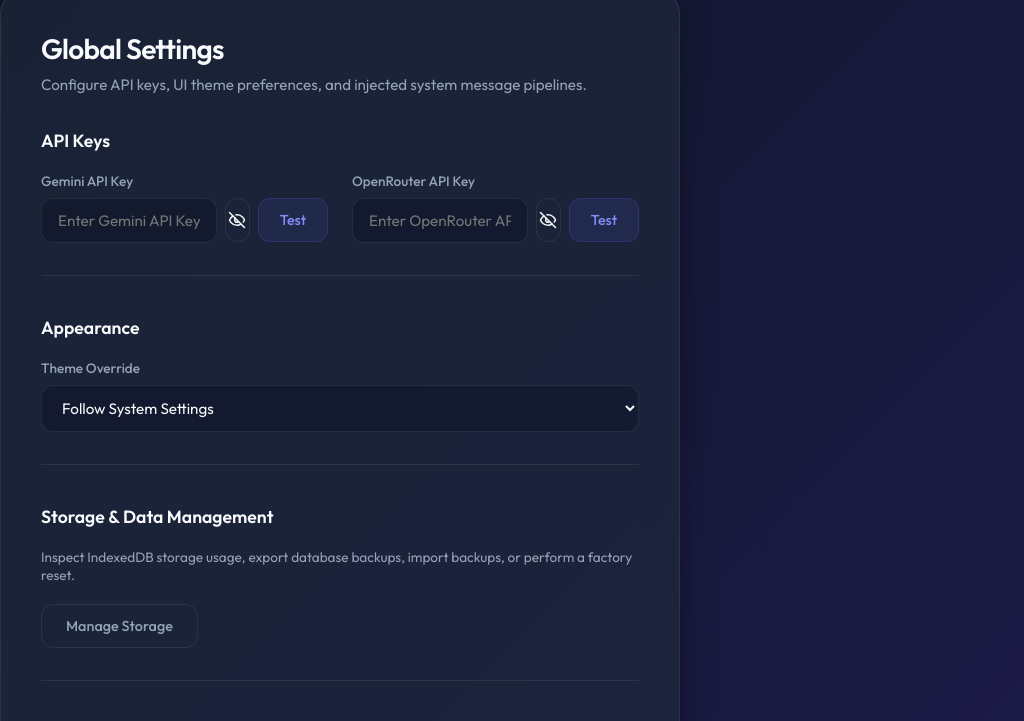
StorageManagementModal Integration Tests › opens modal and displays storage metrics & thread list
Note: Open modal
Click the button with test id "manage-storage-btn" at (119, 626), box [41, 604, 198, 648]
(page scrolled)
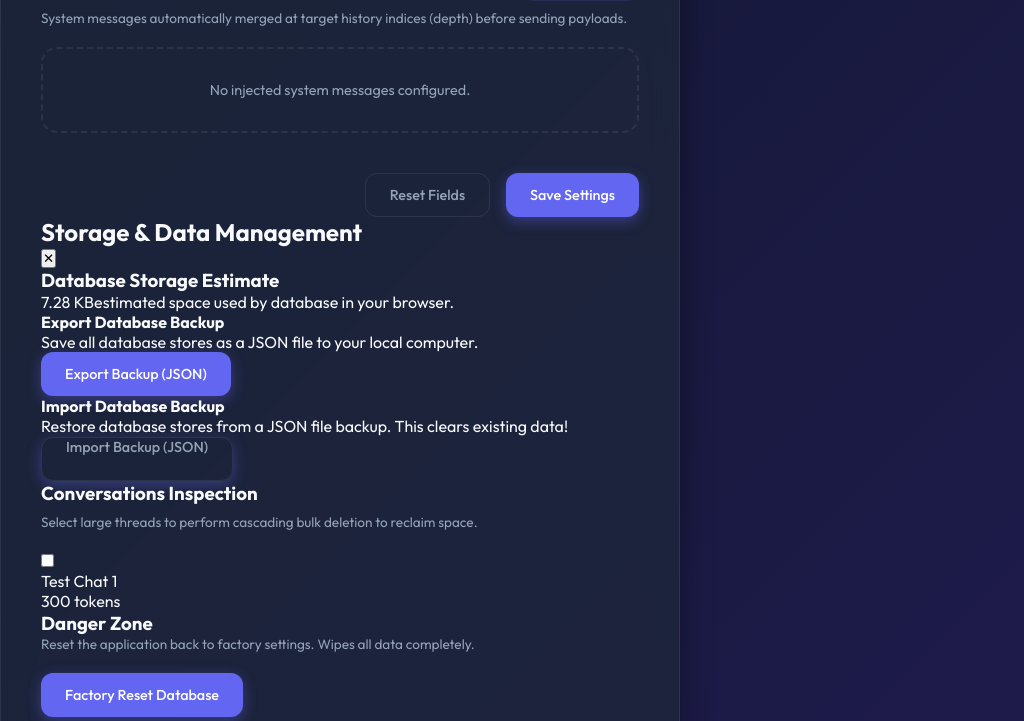
Result: the element with test id "storage-management-modal" is shown at [41, 217, 639, 717]
Result: the element with test id "storage-usage-display" is shown at [41, 292, 454, 312]
Result: the text "Test Chat 1" is shown at [41, 571, 117, 591]
